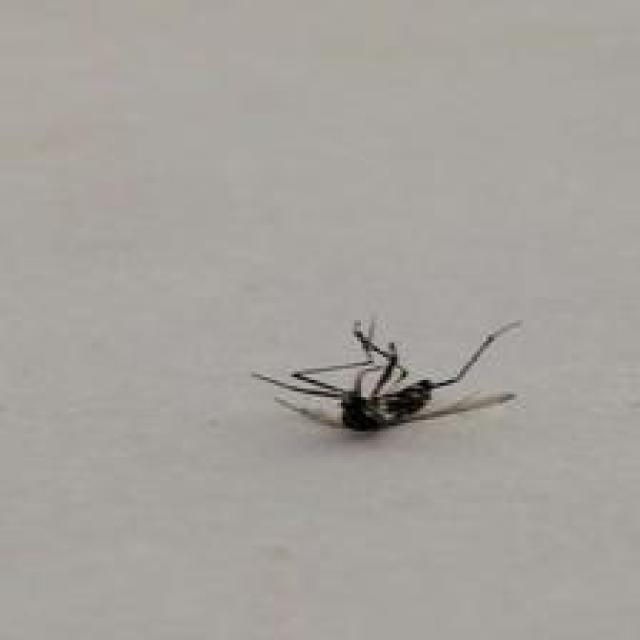Aedes albopictus: (250, 316, 524, 436)
